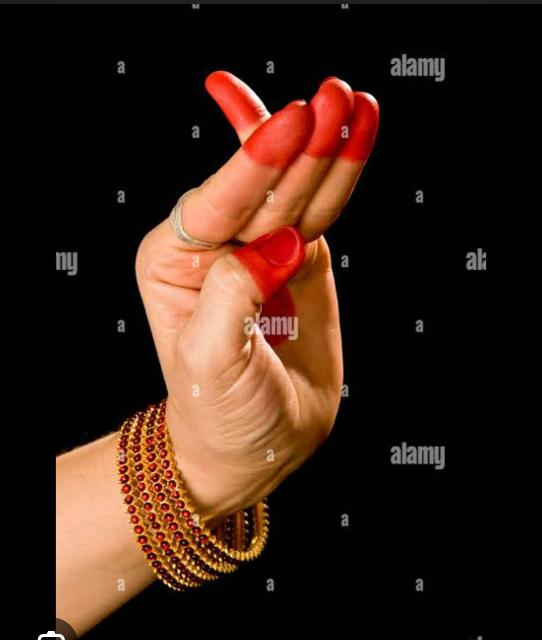chatur: (54, 38, 468, 566)
